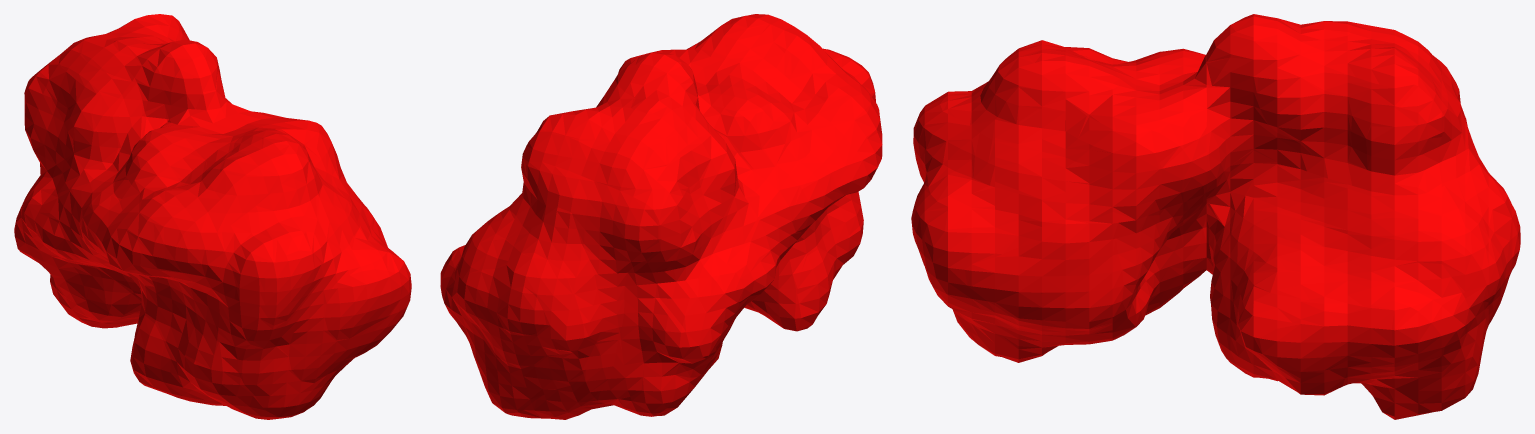
The model's file is waaA_coarse.dae.
3 views of the same model, side by side, from view 1: azimuth 30°, elevation 25°; view 2: azimuth 150°, elevation 25°; view 3: azimuth 270°, elevation 25° (orthographic). The views are drawn at different scales.
Visible parts, largest first — view 1: waaA; view 2: waaA; view 3: waaA.
Part boxes in pixels (<box>): waaA: <box>14,14,411,419</box>; waaA: <box>440,14,882,419</box>; waaA: <box>911,14,1520,419</box>.
Bounding box in the file's own units: 49.84 × 51.25 × 78.2.
